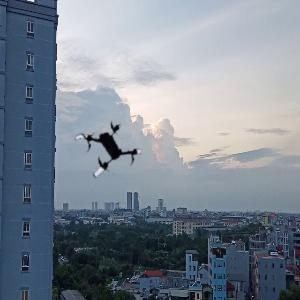drone: (72, 117, 142, 187)
